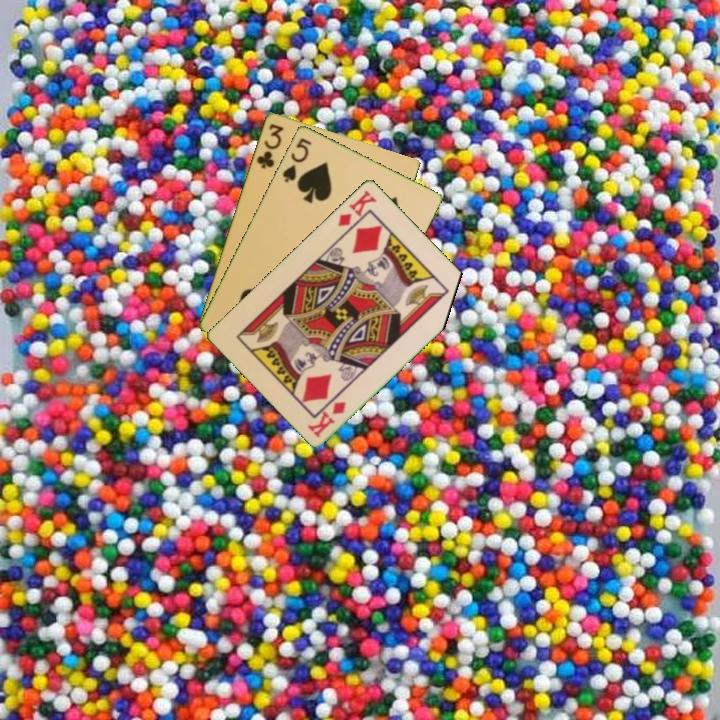3c: (253, 120, 286, 171)
5s: (279, 134, 314, 185)
Kd: (334, 186, 380, 229), (305, 397, 349, 440)
